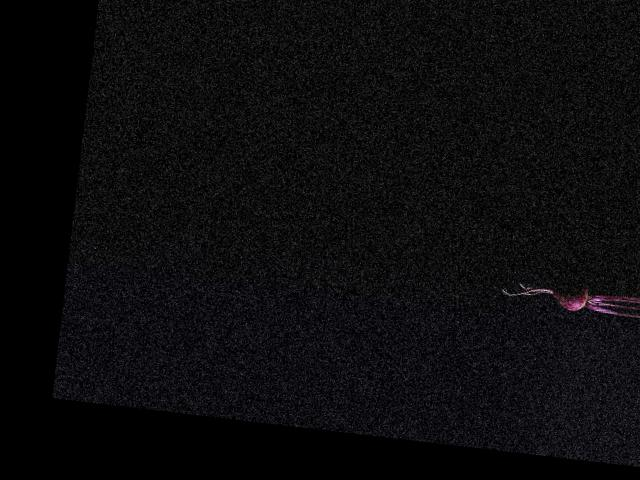beet: (500, 270, 625, 318)
